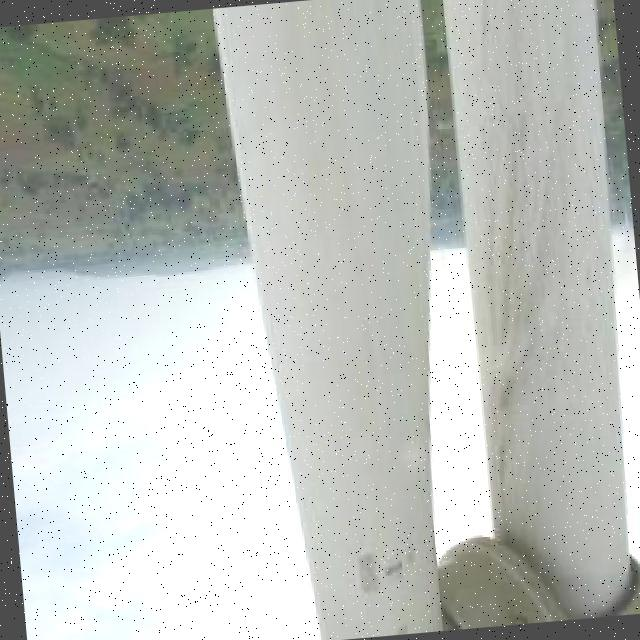Dirt: (446, 0, 625, 535)
Pin Hole: (391, 559, 407, 579)
